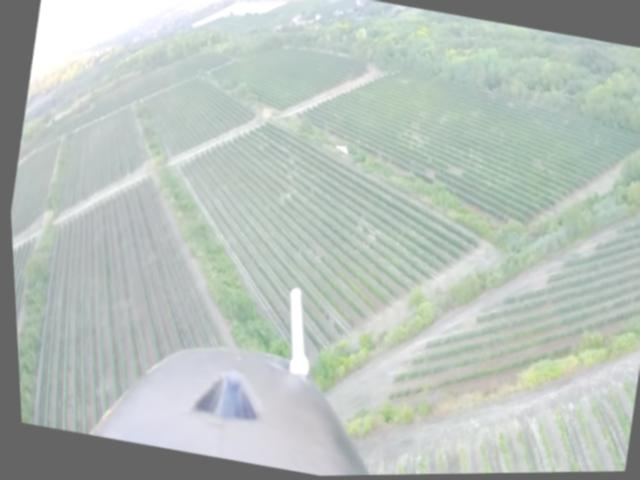plane: (331, 143, 348, 158)
